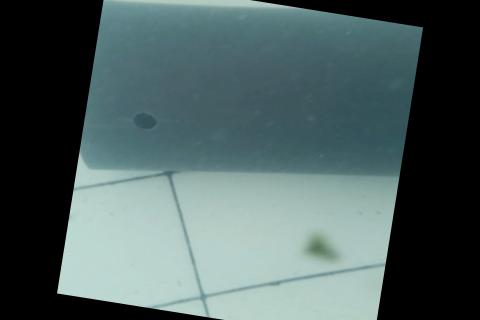kebocoran: (128, 108, 160, 132)
